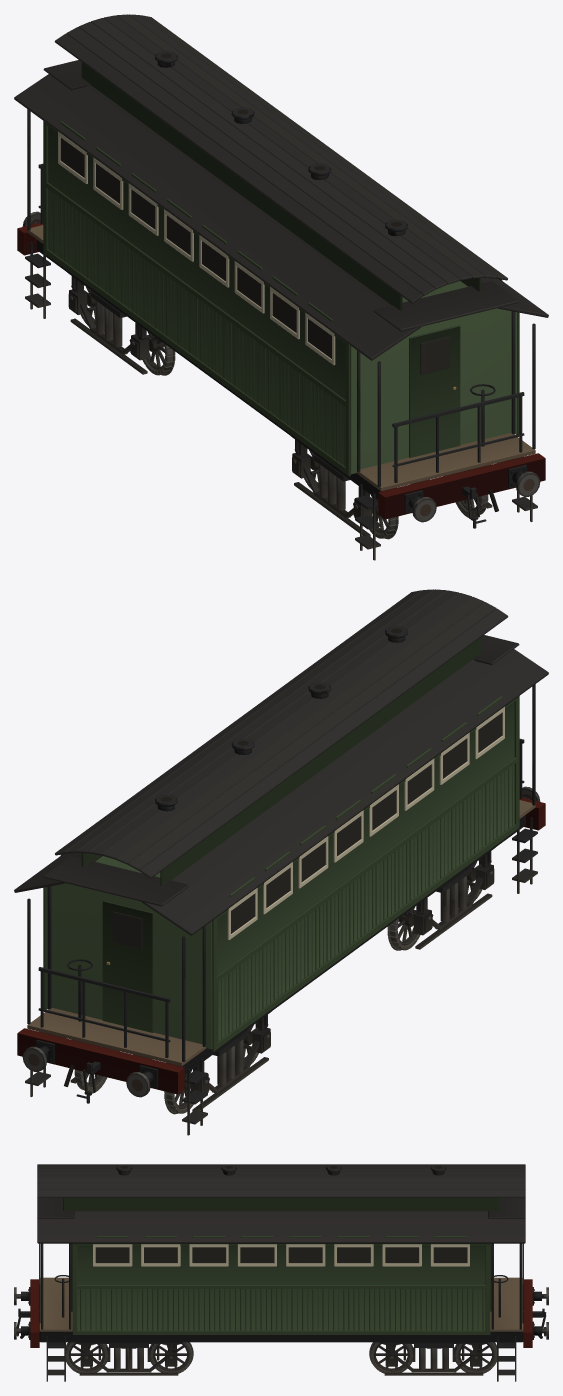
Rendered from vagon.glb.
The picture shows the model from 3 angles, top to bottom: view 1: azimuth 30°, elevation 25°; view 2: azimuth 150°, elevation 25°; view 3: azimuth 270°, elevation 25°; orthographic projection. The views are drawn at different scales.
Visible parts, largest first — view 1: dark-roof-004, plank-body-001, dark-platforms-005, dark-buffers-002, window-side-001, dark-bogie-011, dark-bogie-006, dark-frame-001, dark-wheel-013, dark-buffers-003; view 2: dark-roof-004, plank-body-001, dark-platforms-005, dark-buffers-003, window-side-001, dark-bogie-006, dark-bogie-011, dark-frame-001, dark-wheel-010, dark-buffers-002; view 3: dark-roof-004, plank-body-001, dark-platforms-005, window-side-001, dark-frame-001, dark-bogie-006, dark-bogie-011, dark-buffers-003, dark-buffers-002, dark-wheel-009, dark-wheel-012, dark-wheel-007 (+1 smaller).
Boxes of the visible parts, <box> form: dark-roof-004: <box>14,14,548,360</box>; plank-body-001: <box>43,121,519,476</box>; dark-platforms-005: <box>25,109,537,560</box>; dark-buffers-002: <box>378,453,545,528</box>; window-side-001: <box>60,138,331,358</box>; dark-bogie-011: <box>67,272,150,374</box>; dark-bogie-006: <box>291,436,492,536</box>; dark-frame-001: <box>37,240,523,499</box>; dark-wheel-013: <box>136,327,175,375</box>; dark-buffers-003: <box>17,211,43,255</box>; dark-roof-004: <box>14,589,548,935</box>; plank-body-001: <box>43,696,519,1051</box>; dark-platforms-005: <box>25,684,537,1135</box>; dark-buffers-003: <box>17,1028,184,1103</box>; window-side-001: <box>231,713,502,933</box>; dark-bogie-006: <box>412,847,495,949</box>; dark-bogie-011: <box>70,1011,271,1111</box>; dark-frame-001: <box>39,815,525,1074</box>; dark-wheel-010: <box>387,902,426,950</box>; dark-buffers-002: <box>519,786,545,830</box>; dark-roof-004: <box>37,1164,525,1243</box>; plank-body-001: <box>71,1236,491,1334</box>; dark-platforms-005: <box>39,1243,523,1381</box>; window-side-001: <box>95,1247,467,1263</box>; dark-frame-001: <box>39,1331,523,1342</box>; dark-bogie-006: <box>75,1342,182,1375</box>; dark-bogie-011: <box>380,1342,487,1375</box>; dark-buffers-003: <box>523,1279,548,1347</box>; dark-buffers-002: <box>14,1279,39,1347</box>; dark-wheel-009: <box>150,1342,193,1373</box>; dark-wheel-012: <box>369,1342,412,1373</box>; dark-wheel-007: <box>66,1342,107,1373</box>.
Size of the model in its own units: 3 by 4.53 by 11.4.
